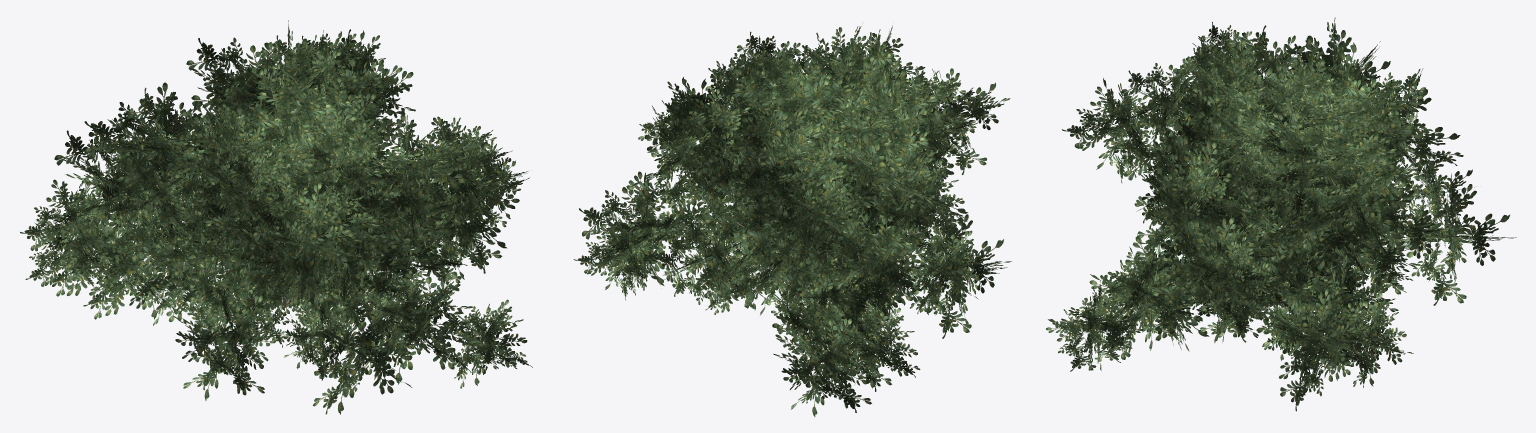
Rendered from bush_01.glb.
3 renders of one model, left to right at view 1: azimuth 30°, elevation 25°; view 2: azimuth 150°, elevation 25°; view 3: azimuth 270°, elevation 25°, orthographic. The views are drawn at different scales.
Size of the model in its own units: 9.87 by 7.12 by 9.46.
Materials: 3 (2 with a texture image).
